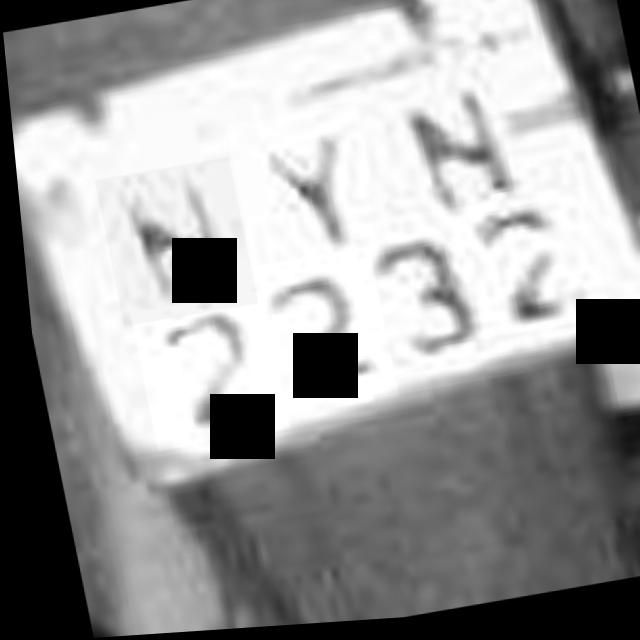2: (228, 250, 391, 424), (122, 292, 282, 453), (441, 192, 605, 346)
3: (326, 208, 507, 384)
N: (89, 159, 253, 327), (375, 70, 527, 230)
Y: (221, 107, 381, 274)
